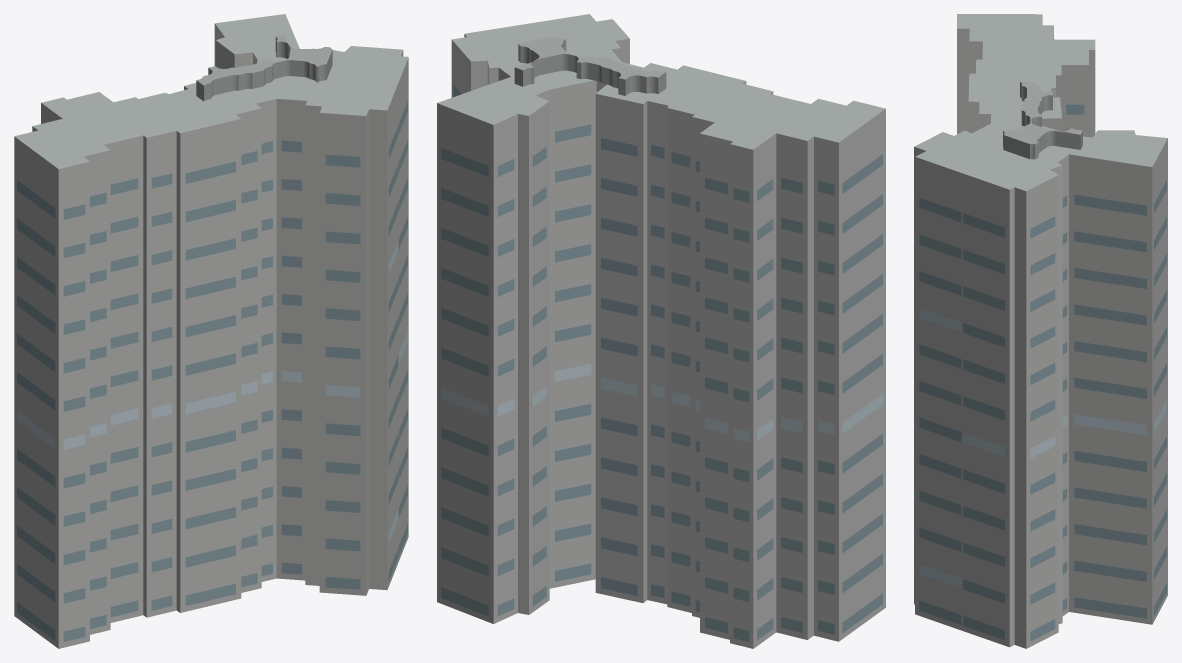
File: fallback-godeok-arteon-317.glb
The picture shows the model from 3 angles, left to right: view 1: azimuth 30°, elevation 25°; view 2: azimuth 150°, elevation 25°; view 3: azimuth 270°, elevation 25°; orthographic projection. The views are drawn at different scales.
Visible parts, largest first — view 1: fallback-godeok-arteon-317; view 2: fallback-godeok-arteon-317; view 3: fallback-godeok-arteon-317.
Boxes of the visible parts, box(x1,y1,x2,y2) form: fallback-godeok-arteon-317: box(14, 14, 408, 648); fallback-godeok-arteon-317: box(437, 14, 885, 648); fallback-godeok-arteon-317: box(914, 14, 1167, 648).
Size of the model in its own units: 60.4 by 75 by 36.49.
